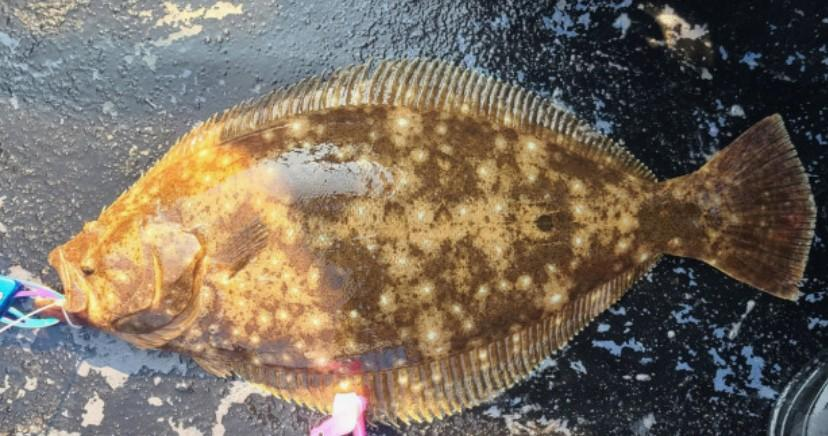fish: (47, 58, 817, 429)
